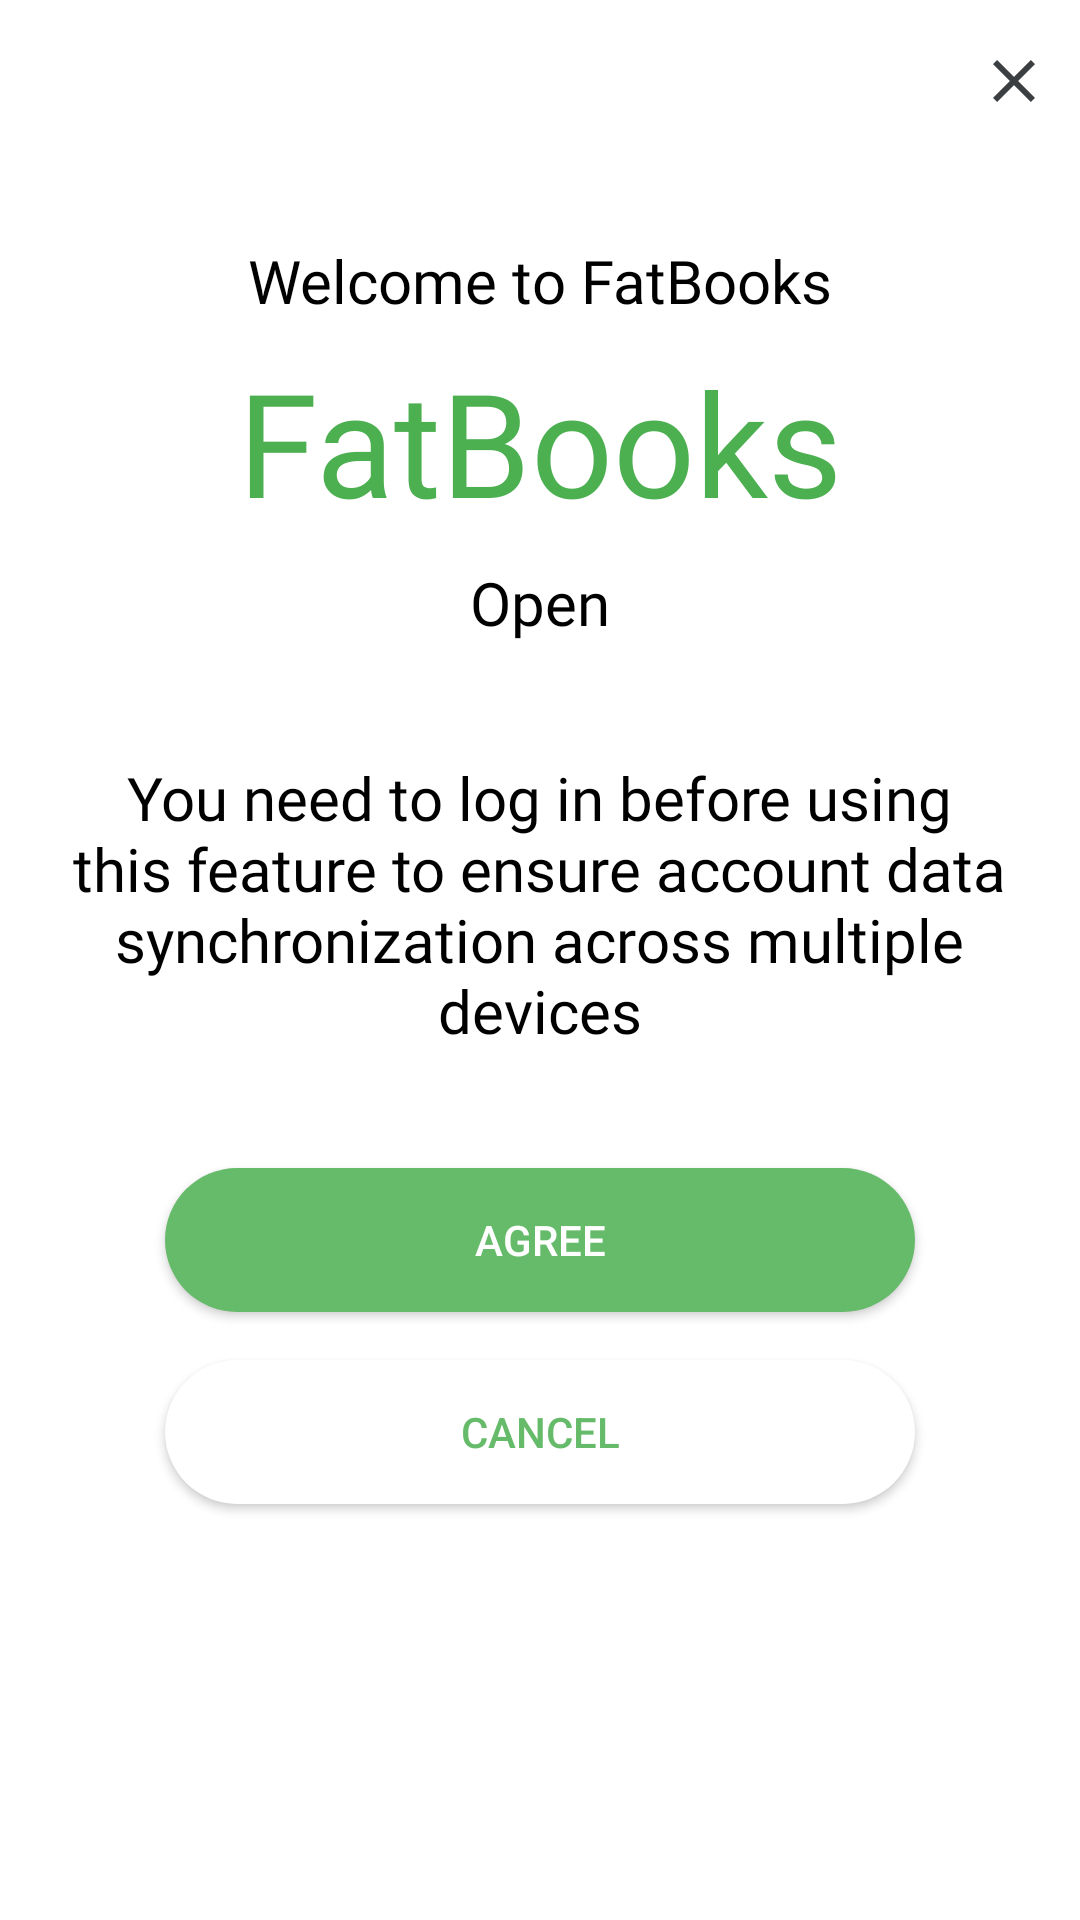

Where icons sit on this 1080*1920 app screen, as (x1, y1, x2, y2):
close: (993, 60, 1035, 102)
